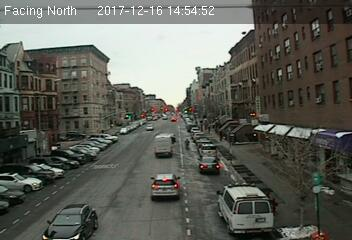bicycle: (182, 138, 190, 150)
car: (42, 203, 98, 240), (149, 175, 181, 198), (198, 156, 221, 174)
police: (216, 183, 272, 234)
truck: (154, 133, 174, 157)
